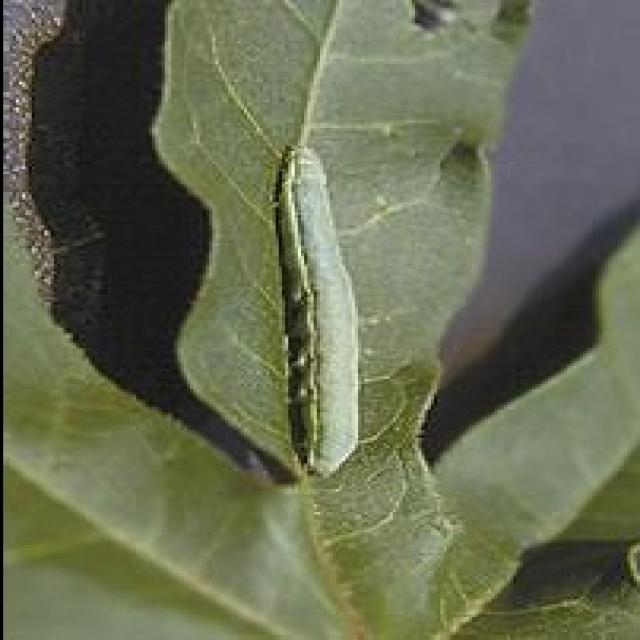army worm: (288, 146, 373, 486)
